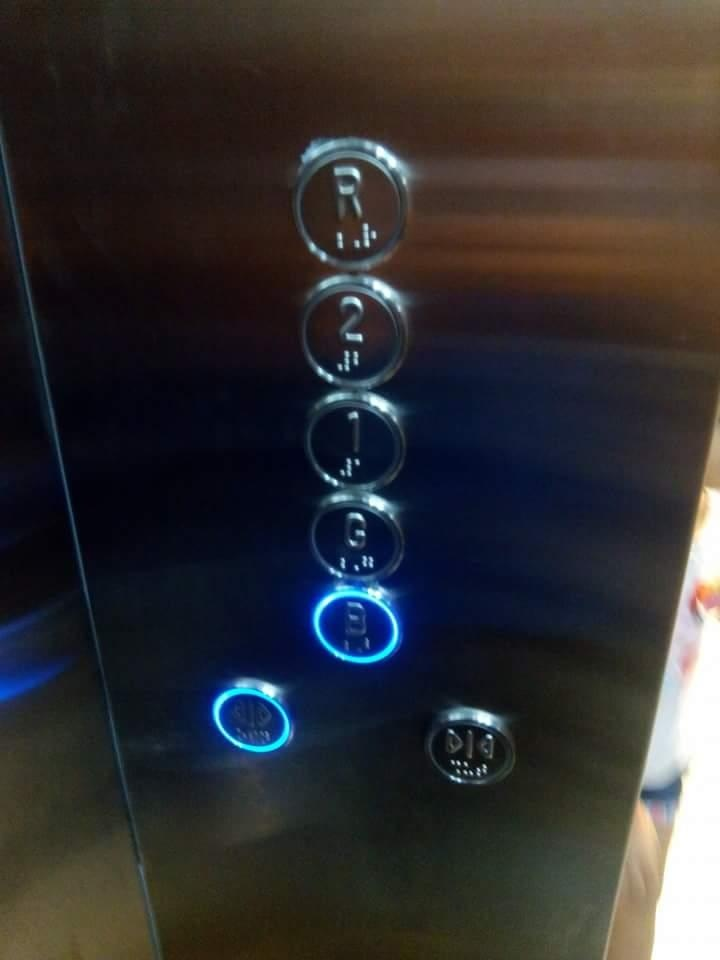1: (297, 388, 413, 493)
2: (295, 269, 411, 388)
B: (308, 587, 404, 665)
G: (305, 489, 407, 587)
R: (290, 137, 409, 271)
close: (425, 707, 518, 788)
open: (207, 673, 299, 757)
